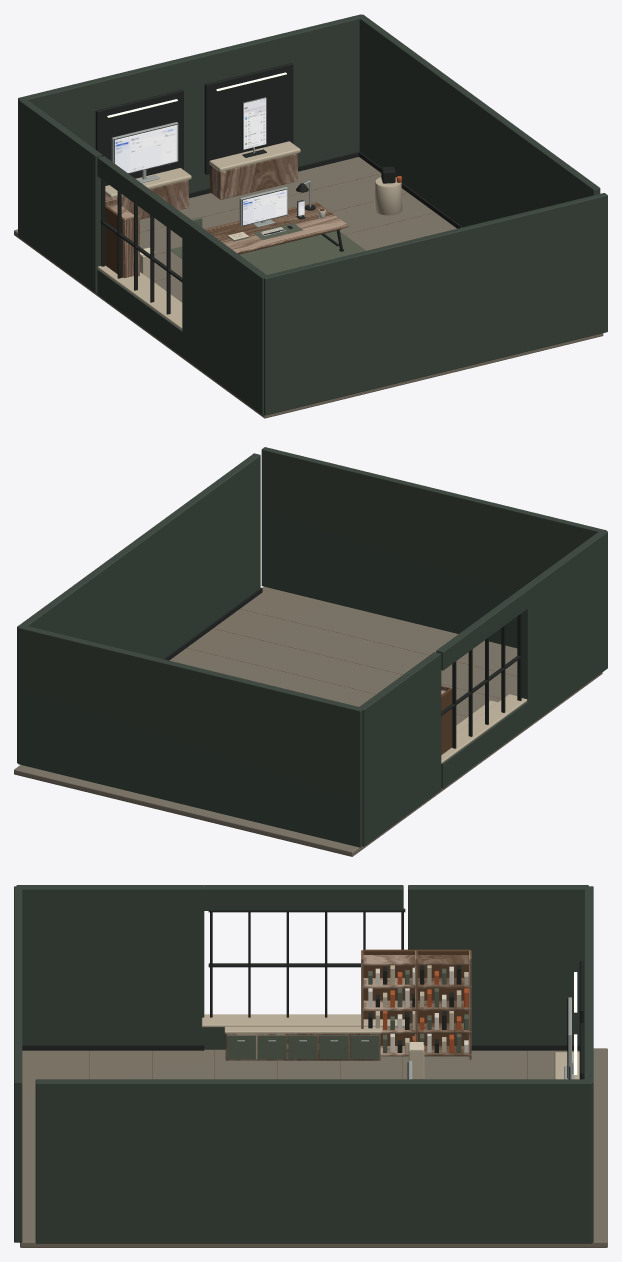
The model's file is studio.glb.
3 views of the same model, one above another, from view 1: azimuth 30°, elevation 25°; view 2: azimuth 150°, elevation 25°; view 3: azimuth 270°, elevation 25° (orthographic). The views are drawn at different scales.
Parts seen in each view (by area): view 1: COL_front, COL_east, COL_rear, COL_floor, COL_west_solid, COL_west_solid.001, SNUG_wallPanel, ACTAPE_wallPanel, Rug, COL_DeskTop, SNUG_baseCabinet, COL_window_sill (+11 smaller); view 2: COL_rear, COL_front, COL_floor, COL_east, COL_west_solid.001, COL_west_solid, COL_window_sill, COL_window_header, Limestone sill, NOTES_back, Skirting east; view 3: COL_east, COL_west_solid.001, COL_floor, COL_west_solid, COL_window_header, NOTES_back, COL_front, COL_rear, Limestone sill, Sideboard cap, NOTES_shelf.004, Sideboard (+14 smaller).
Part boxes in pixels (x1=…): COL_front: x1=263, y1=193, x2=607, y2=415; COL_east: x1=359, y1=14, x2=600, y2=227; COL_rear: x1=18, y1=14, x2=363, y2=234; COL_floor: x1=14, y1=157, x2=603, y2=418; COL_west_solid: x1=18, y1=98, x2=102, y2=292; COL_west_solid.001: x1=182, y1=218, x2=266, y2=415; SNUG_wallPanel: x1=204, y1=63, x2=293, y2=174; ACTAPE_wallPanel: x1=95, y1=89, x2=183, y2=185; Rug: x1=170, y1=231, x2=365, y2=274; COL_DeskTop: x1=204, y1=202, x2=348, y2=253; SNUG_baseCabinet: x1=209, y1=153, x2=297, y2=199; COL_window_sill: x1=97, y1=269, x2=182, y2=356; COL_rear: x1=18, y1=625, x2=362, y2=847; COL_front: x1=261, y1=447, x2=606, y2=648; COL_floor: x1=14, y1=586, x2=602, y2=856; COL_east: x1=17, y1=453, x2=260, y2=763; COL_west_solid.001: x1=521, y1=530, x2=607, y2=726; COL_west_solid: x1=358, y1=652, x2=441, y2=846; COL_window_sill: x1=441, y1=701, x2=528, y2=788; COL_window_header: x1=436, y1=588, x2=528, y2=670; Limestone sill: x1=441, y1=694, x2=527, y2=763; NOTES_back: x1=441, y1=688, x2=452, y2=754; Skirting east: x1=164, y1=587, x2=262, y2=660; COL_east: x1=35, y1=1079, x2=592, y2=1243; COL_west_solid.001: x1=16, y1=885, x2=204, y2=1044; COL_floor: x1=20, y1=1048, x2=607, y2=1247; COL_west_solid: x1=408, y1=885, x2=588, y2=1044; COL_window_header: x1=204, y1=885, x2=403, y2=910; NOTES_back: x1=363, y1=949, x2=470, y2=1045; COL_front: x1=14, y1=886, x2=22, y2=1242; COL_rear: x1=584, y1=886, x2=593, y2=1242; Limestone sill: x1=201, y1=1014, x2=404, y2=1027; Sideboard cap: x1=224, y1=1026, x2=381, y2=1033; NOTES_shelf.004: x1=361, y1=955, x2=471, y2=965; Sideboard: x1=225, y1=1033, x2=380, y2=1060.
Size of the model in its own units: 13.48 by 5.3 by 17.07.
16 materials, 3 textured.
